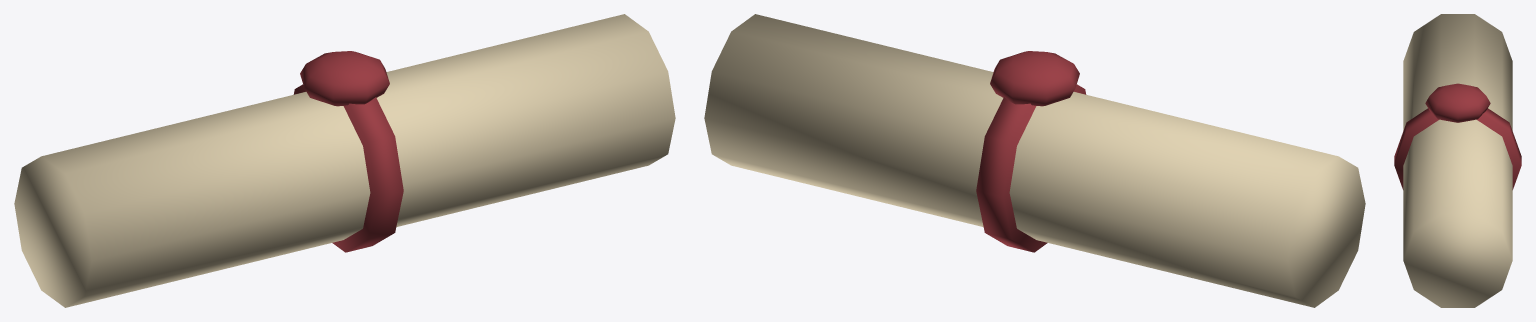
Rendered from scroll_wax_sealed.glb.
3 renders of one model, left to right at view 1: azimuth 30°, elevation 25°; view 2: azimuth 150°, elevation 25°; view 3: azimuth 270°, elevation 25°, orthographic. The views are drawn at different scales.
Visible parts, largest first — view 1: GD_scroll_wax_sealed__m0, GD_scroll_wax_sealed__m1; view 2: GD_scroll_wax_sealed__m0, GD_scroll_wax_sealed__m1; view 3: GD_scroll_wax_sealed__m0, GD_scroll_wax_sealed__m1.
Part boxes in pixels (x1,y1,x2,y2): GD_scroll_wax_sealed__m0: (14, 14, 675, 307); GD_scroll_wax_sealed__m1: (293, 51, 403, 252); GD_scroll_wax_sealed__m0: (704, 14, 1365, 307); GD_scroll_wax_sealed__m1: (976, 51, 1086, 252); GD_scroll_wax_sealed__m0: (1403, 14, 1512, 307); GD_scroll_wax_sealed__m1: (1394, 83, 1521, 189).
Size of the model in its own units: 0.26 by 0.0773 by 0.07.
